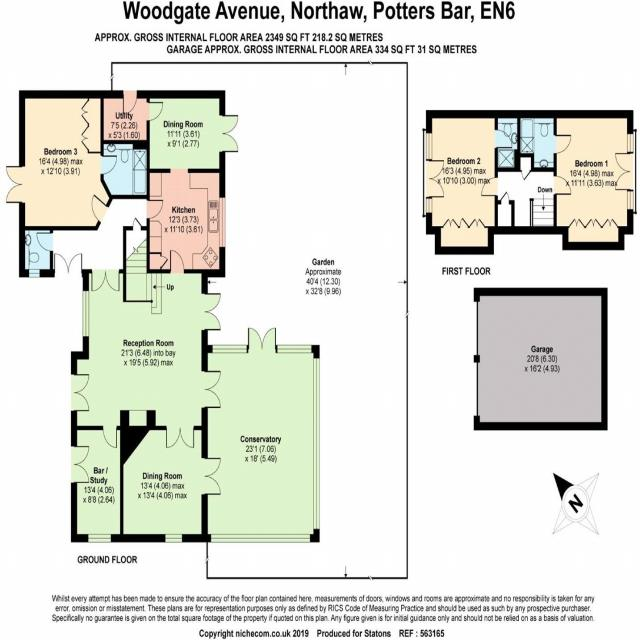DOOR: (91, 193, 109, 224), (169, 249, 185, 274), (122, 90, 138, 115), (553, 134, 572, 155), (553, 175, 572, 196), (102, 425, 118, 449), (480, 176, 498, 197), (146, 199, 164, 220), (146, 101, 164, 122)
DOUBLE DOOR: (70, 442, 92, 486), (246, 325, 278, 355), (218, 112, 240, 155), (201, 454, 223, 497), (613, 152, 636, 193), (5, 162, 26, 206), (70, 372, 92, 414), (201, 291, 222, 334), (202, 369, 223, 410), (426, 158, 445, 199), (90, 269, 123, 292), (165, 426, 198, 449)
ROOM: (147, 88, 240, 277), (5, 90, 117, 231), (426, 110, 513, 255), (119, 426, 221, 543), (553, 110, 634, 251), (71, 425, 125, 543)
WINDOW: (218, 197, 226, 248), (82, 290, 90, 338), (87, 533, 112, 543), (425, 131, 433, 160), (626, 131, 634, 152), (165, 534, 183, 543), (626, 190, 634, 210), (425, 197, 433, 216)
